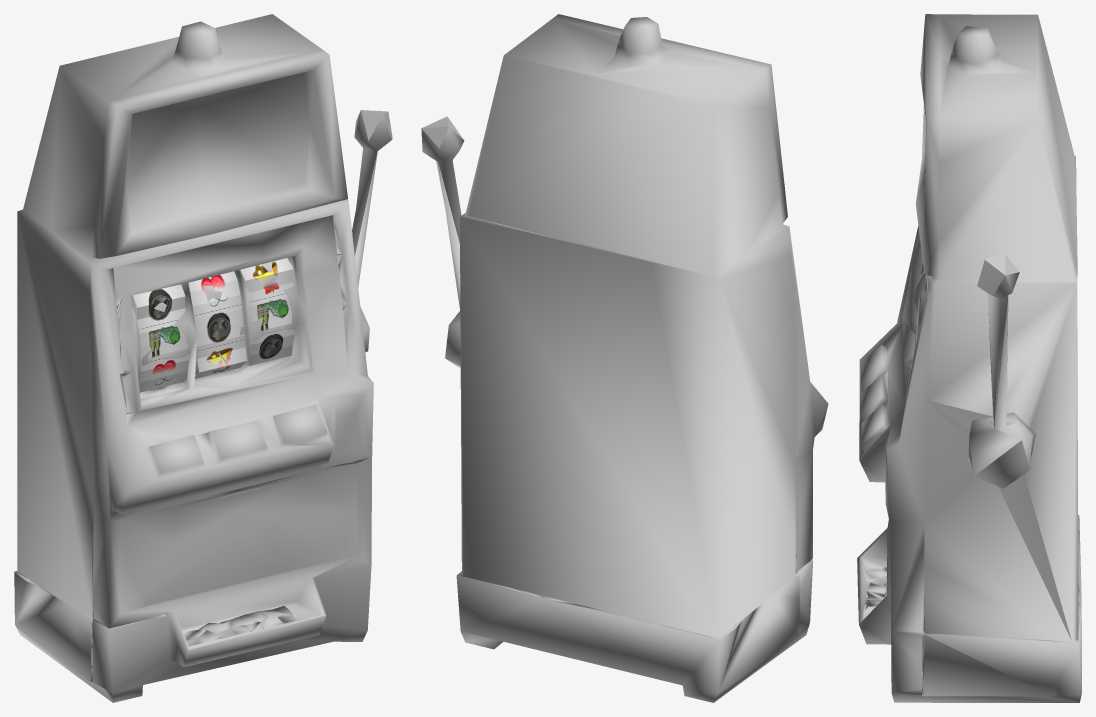
File: SM_CasinoSlotMachine.fbx
The picture shows the model from 3 angles, left to right: view 1: azimuth 30°, elevation 25°; view 2: azimuth 150°, elevation 25°; view 3: azimuth 270°, elevation 25°; orthographic projection.
Visible parts, largest first — view 1: Body, Reel_1, Reel_0, Reel_2; view 2: Body; view 3: Body.
Part boxes in pixels (box(x1,y1,x2,y2)): Body: box(14, 14, 392, 702); Reel_1: box(188, 271, 247, 378); Reel_0: box(133, 284, 188, 392); Reel_2: box(240, 258, 294, 365); Body: box(421, 14, 828, 702); Body: box(857, 14, 1081, 702).
Size of the model in its own units: 1.23 by 2.12 by 0.7093.
